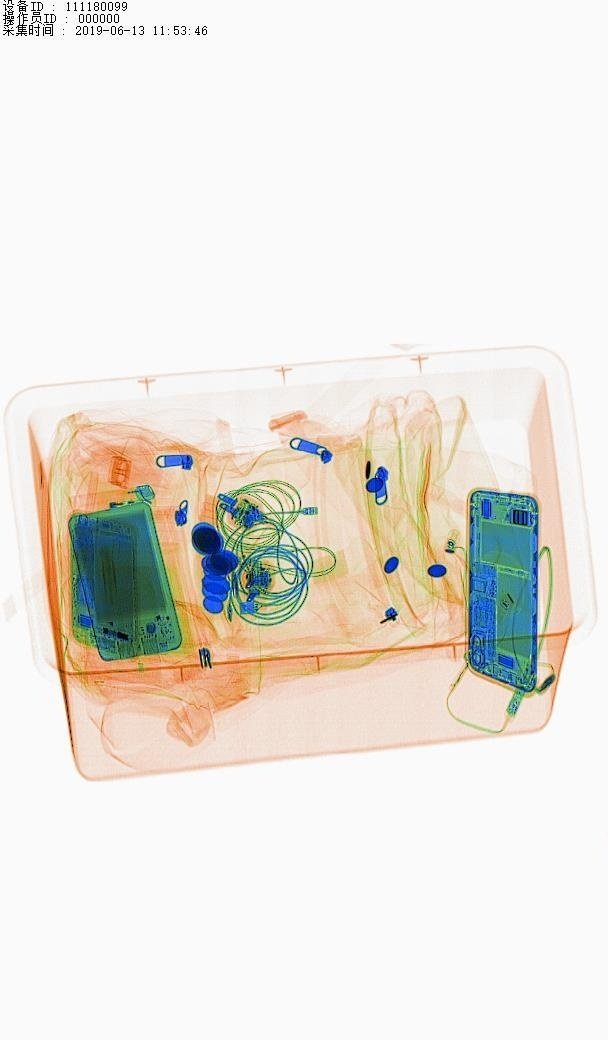NonmetallicFire: (46, 483, 183, 520)
